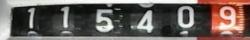digits: (94, 8, 113, 32), (218, 5, 236, 28), (136, 10, 154, 32), (176, 5, 194, 27), (60, 5, 70, 28), (27, 7, 35, 28)
